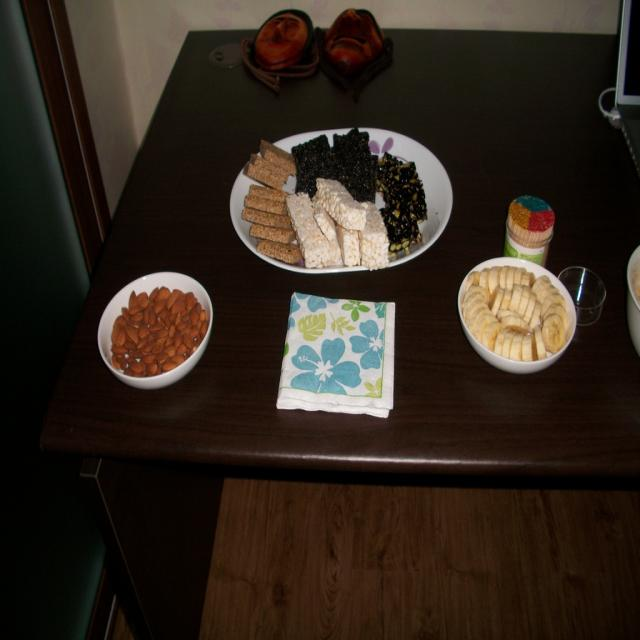non-organic waste: (226, 132, 458, 278)
